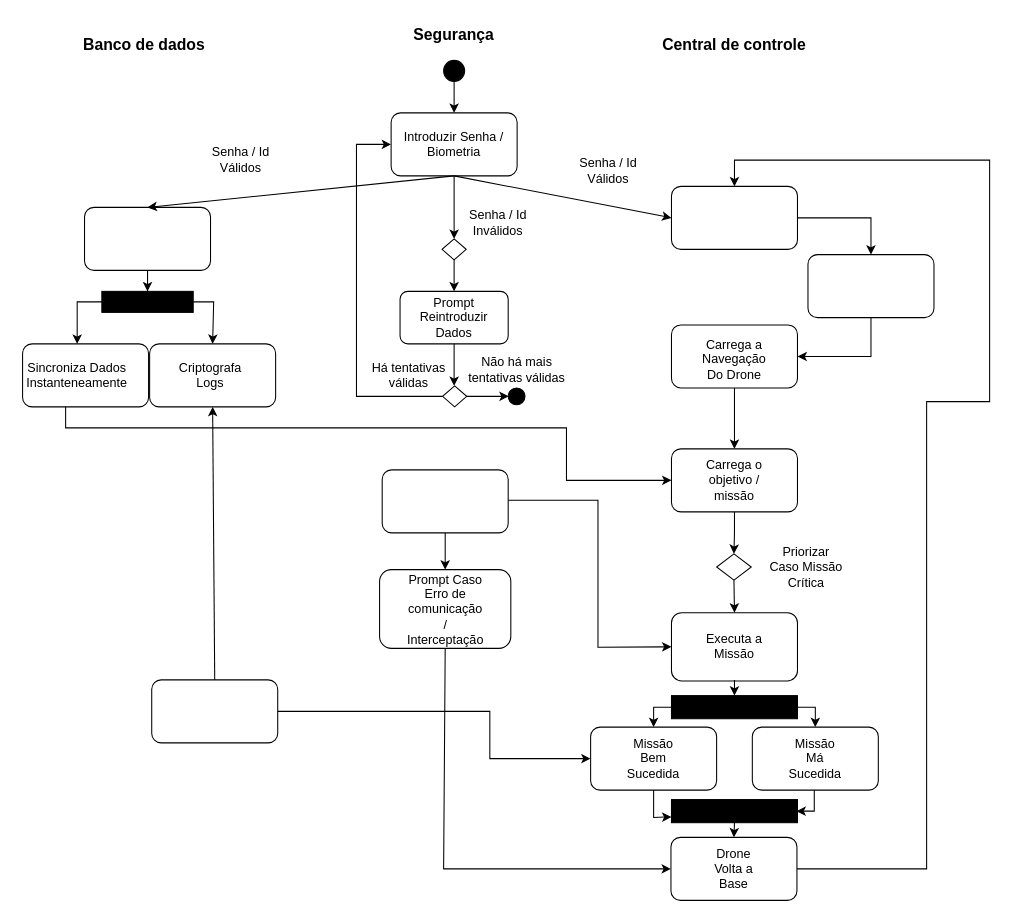
Some shapes in this 1016 by 919 pixel diagram are drawn without their labels. The centre of each missing label's shape, as x and y in pixels:
"Armazena Histórcio Da Missão" belongs at pixel 214 711.
"Averigua a situação Atual dos Drones" belongs at pixel 733 217.
"Garante Comunicação Segura e Rápida" belongs at pixel 444 501.
"Gera Logs" belongs at pixel 147 238.
"Inicia a operação dos Drones" belongs at pixel 870 286.
